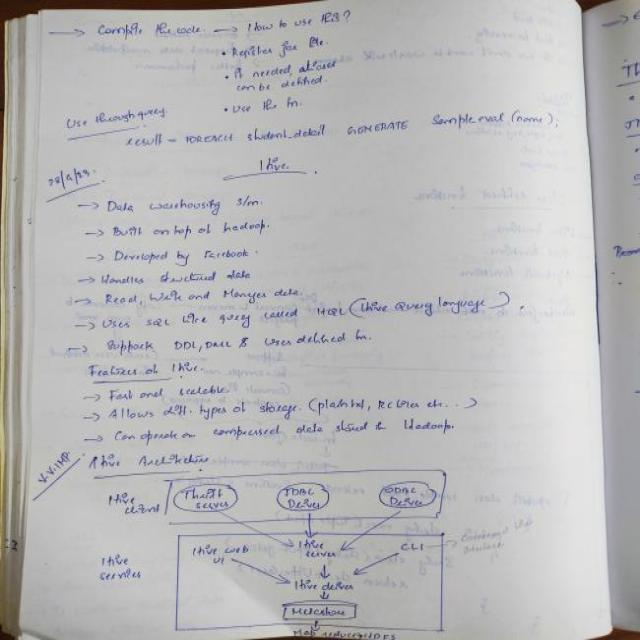Figure Detection - v3 Dataset Version2: (94, 466, 479, 640)
